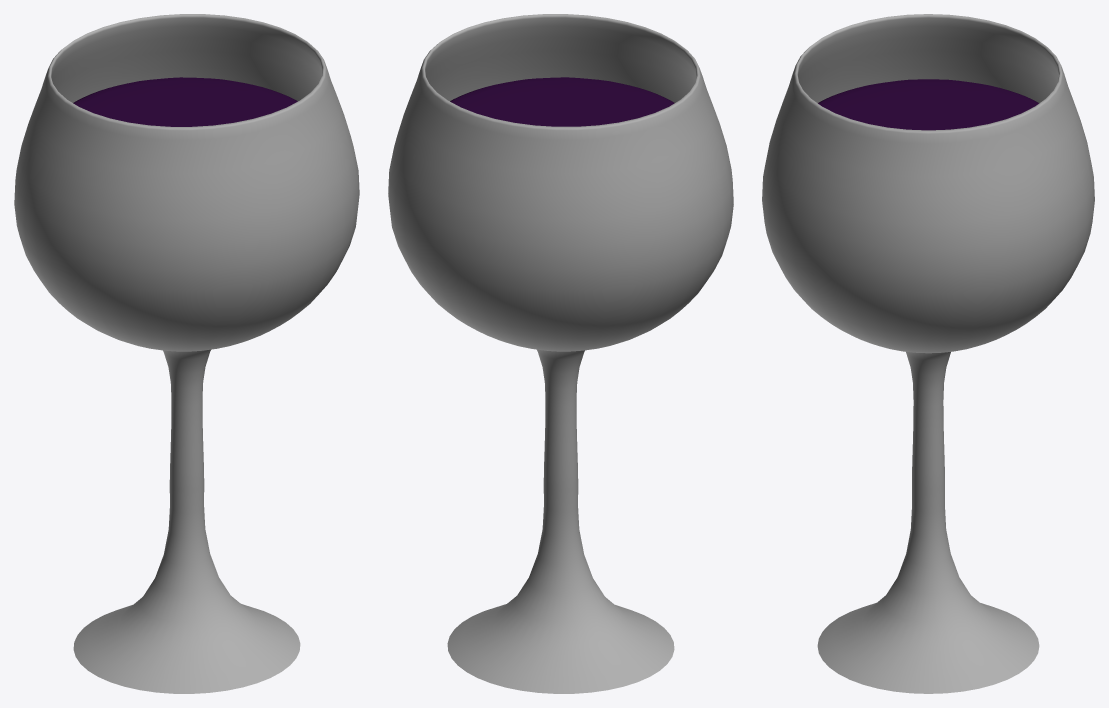
The model's file is wine_glass.fbx.
3 renders of one model, left to right at view 1: azimuth 30°, elevation 25°; view 2: azimuth 150°, elevation 25°; view 3: azimuth 270°, elevation 25°, orthographic.
Parts seen in each view (by area): view 1: glass, drank; view 2: glass, drank; view 3: glass, drank.
Boxes of the visible parts, box(x1,y1,x2,y2) form: glass: box(14, 14, 359, 693); drank: box(73, 77, 297, 126); glass: box(388, 14, 733, 693); drank: box(450, 77, 674, 126); glass: box(762, 14, 1094, 693); drank: box(818, 79, 1039, 130).
Size of the model in its own units: 8.91 by 16.21 by 8.53.
2 materials, 1 textured.
